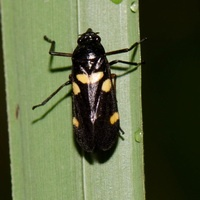insect: (32, 28, 143, 151)
